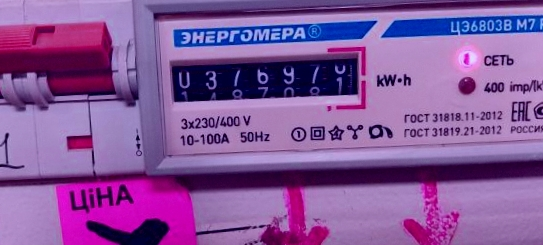0: (175, 66, 190, 88)
1: (333, 74, 345, 94)
3: (203, 68, 219, 90)
6: (254, 61, 270, 84)
7: (228, 63, 245, 88), (306, 60, 322, 84)
9: (280, 61, 295, 84)
screen: (160, 34, 373, 123)
